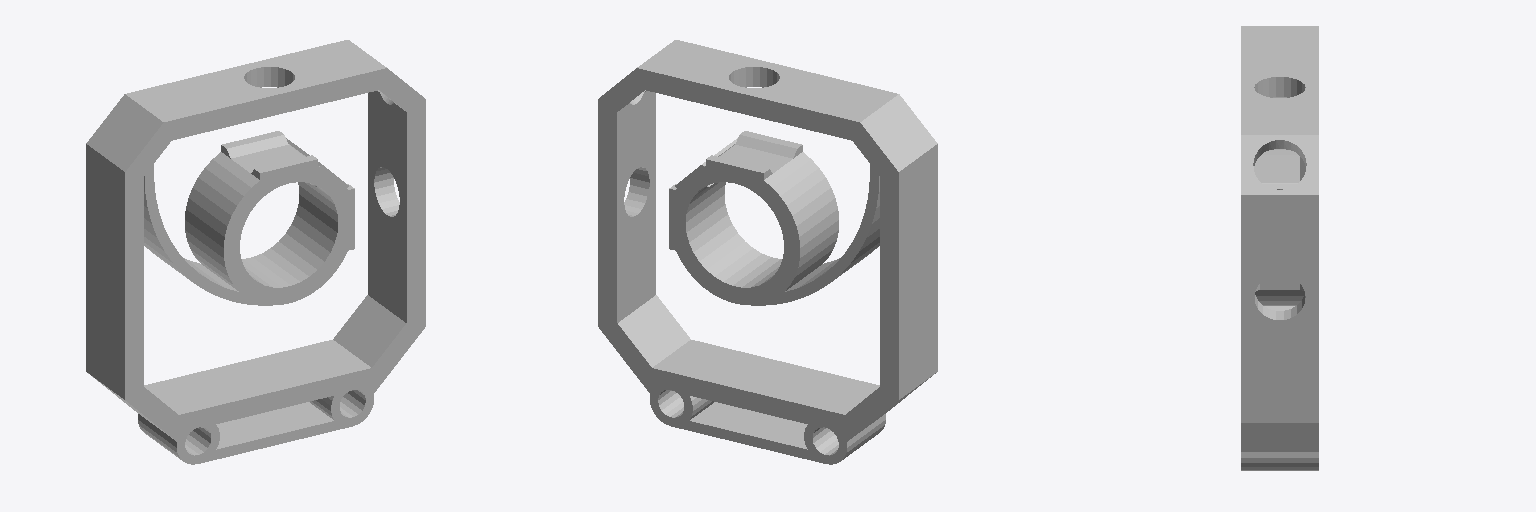
Rendered from Cube 1x1 V5_Laser Holder (Blue Laser).obj.
The picture shows the model from 3 angles: view 1: azimuth 30°, elevation 25°; view 2: azimuth 150°, elevation 25°; view 3: azimuth 270°, elevation 25°; orthographic projection.
Parts seen in each view (by area): view 1: Solid1:19; view 2: Solid1:19; view 3: Solid1:19.
Part boxes in pixels (x1,y1,x2,y2): Solid1:19: (86, 40, 425, 464); Solid1:19: (598, 40, 937, 464); Solid1:19: (1241, 26, 1318, 470).
Bounding box in the file's own units: 38.94 × 43.33 × 8.75.